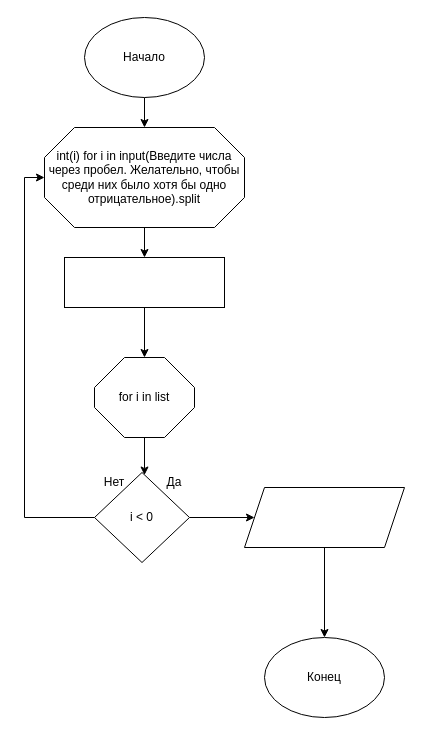
Some shapes in this 422 by 735 pixel diagram are drawn without their labels. The shapes that lost their labels are listed below. From the top down, each one's centre as x and y in pixels, then its label:
At pixel 144 282: "list.sort(reverse=True)".
At pixel 324 517: "Вывод: Наибольшее отрицательное число в вашем списке i".
